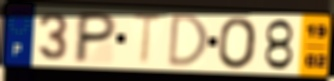3: (36, 12, 71, 62)
8: (264, 18, 296, 71)
D: (166, 13, 211, 69)
O: (217, 16, 259, 71)
P: (71, 10, 120, 65)
T: (129, 11, 165, 68)
